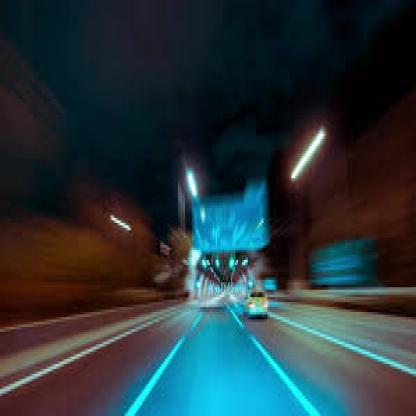car: (237, 284, 276, 341)
